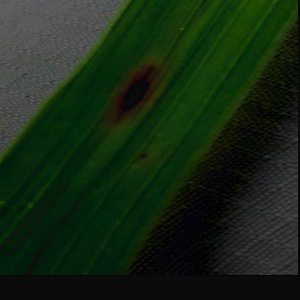Bacterial_Leaf_Blight: (96, 55, 172, 130), (130, 147, 156, 162)
